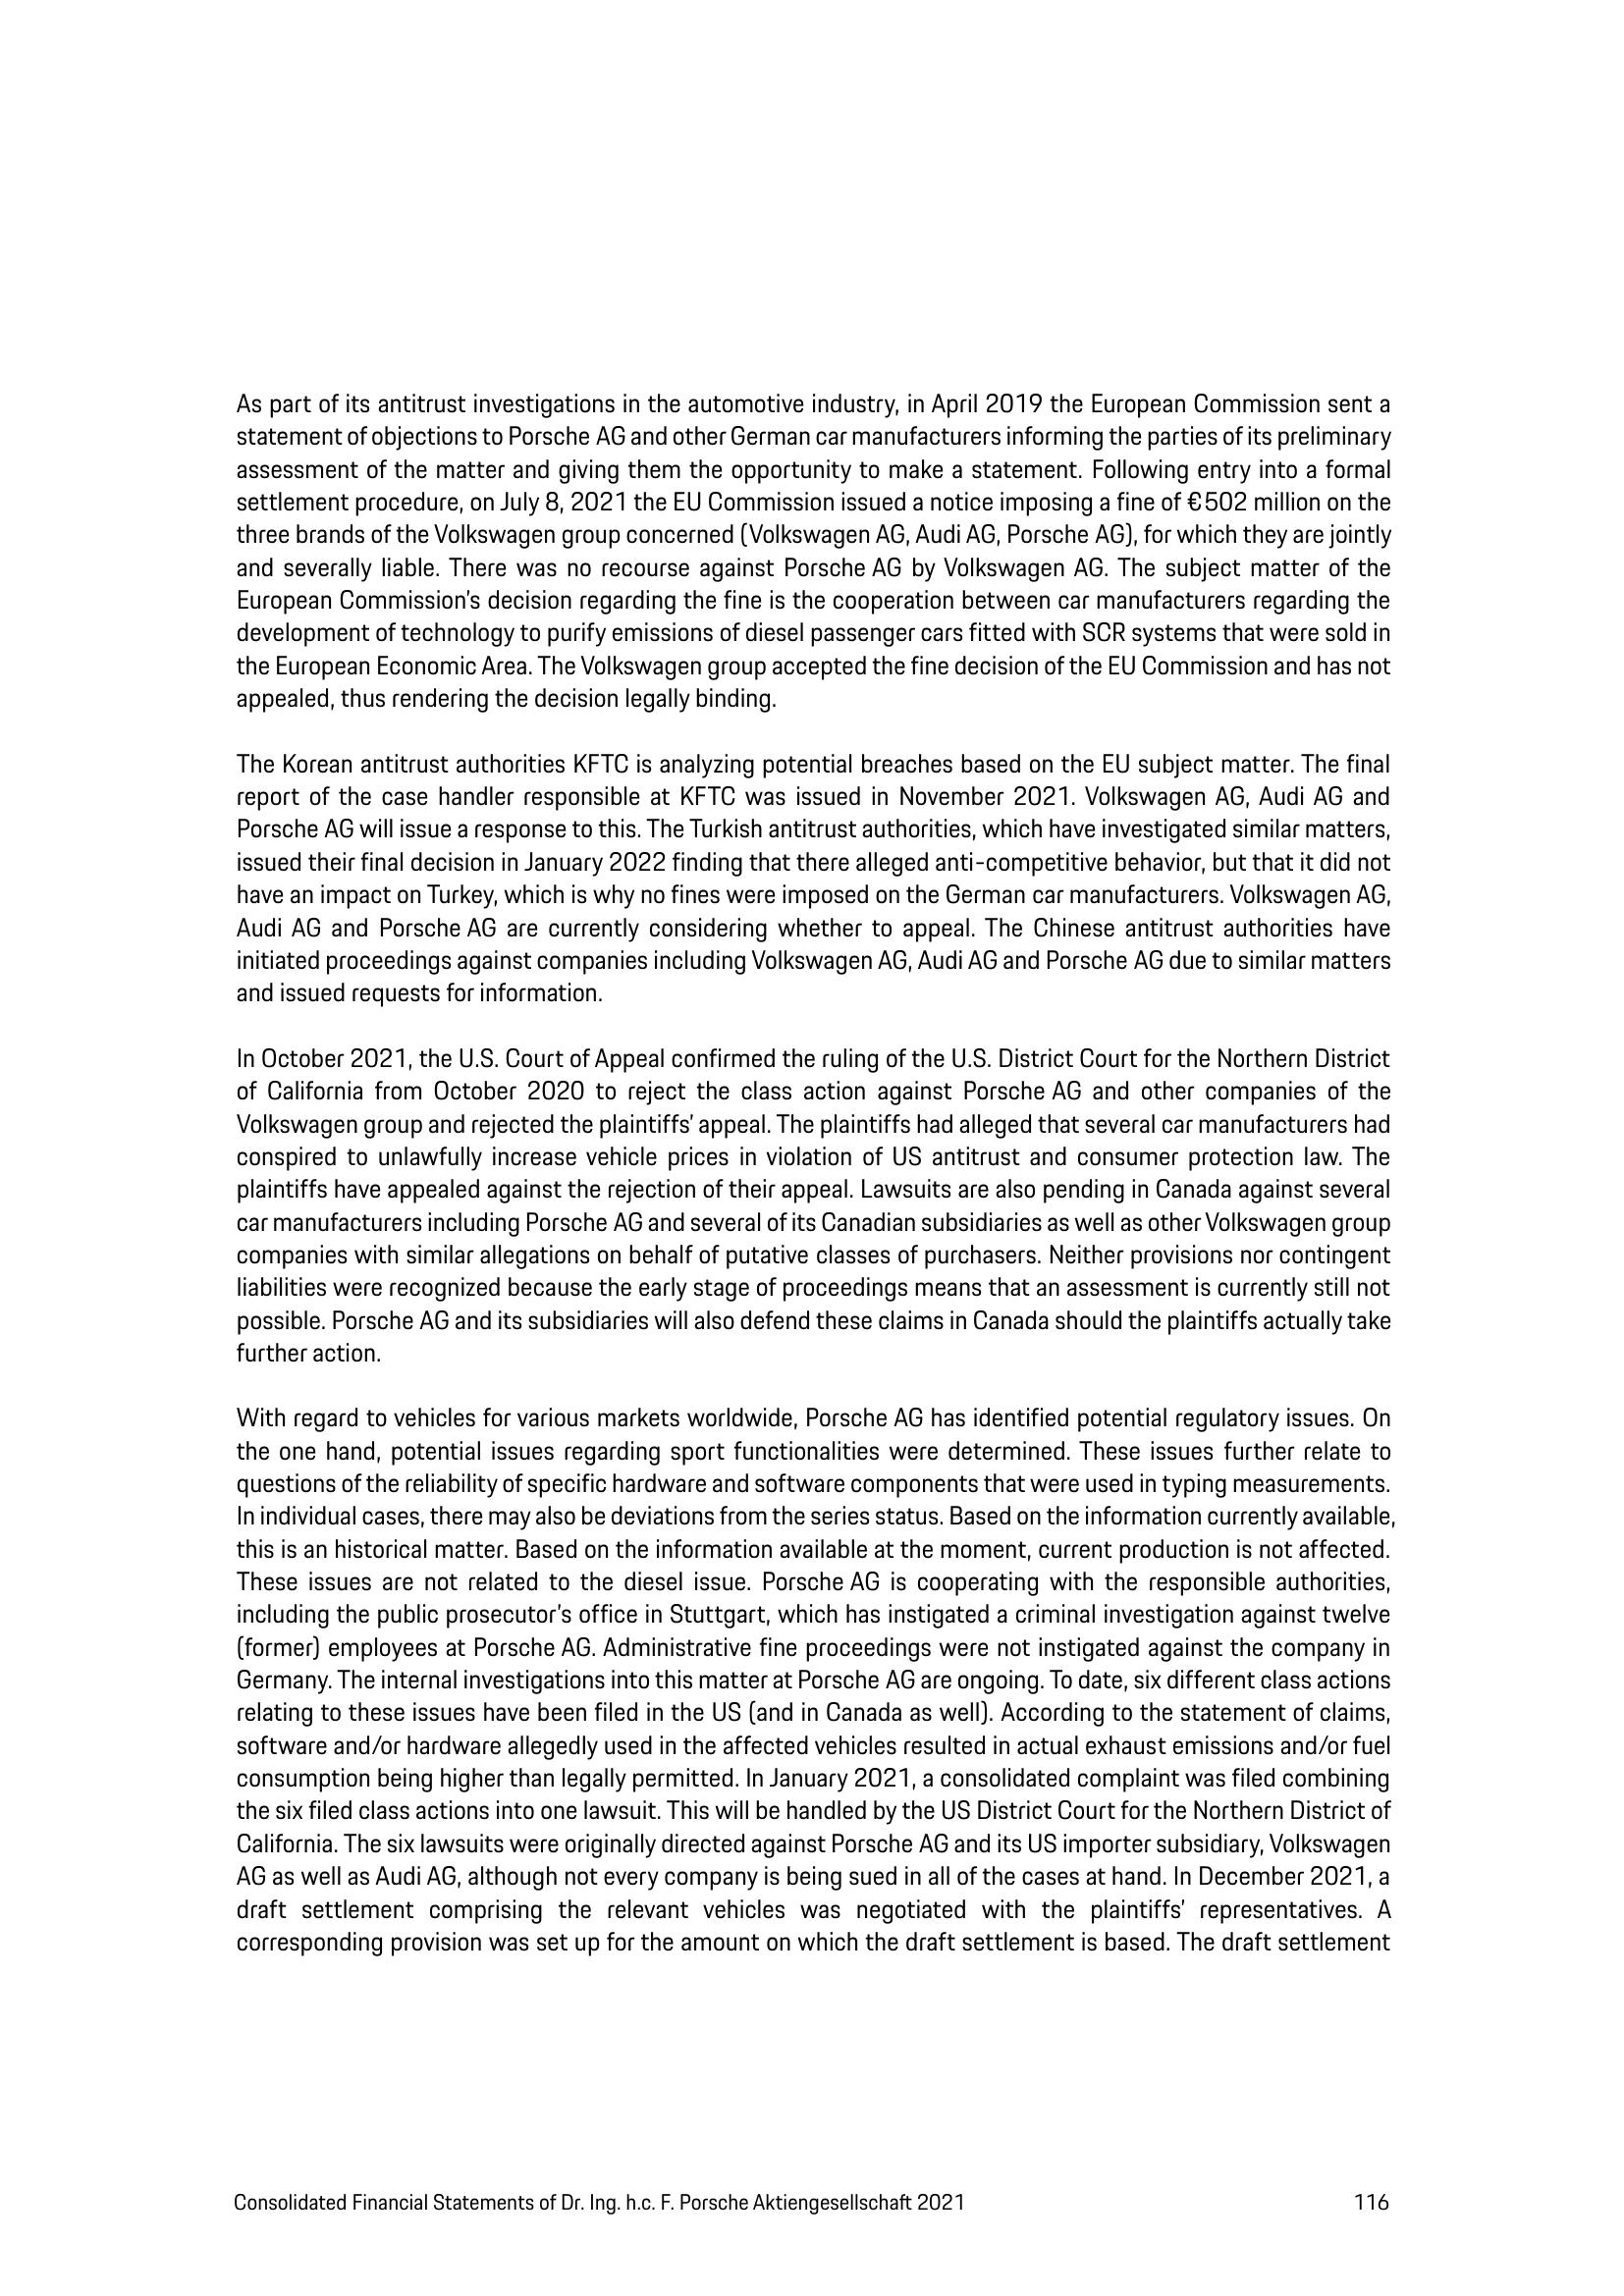Footer: (0, 2131, 1624, 2296)
Header: (0, 0, 1624, 260)
